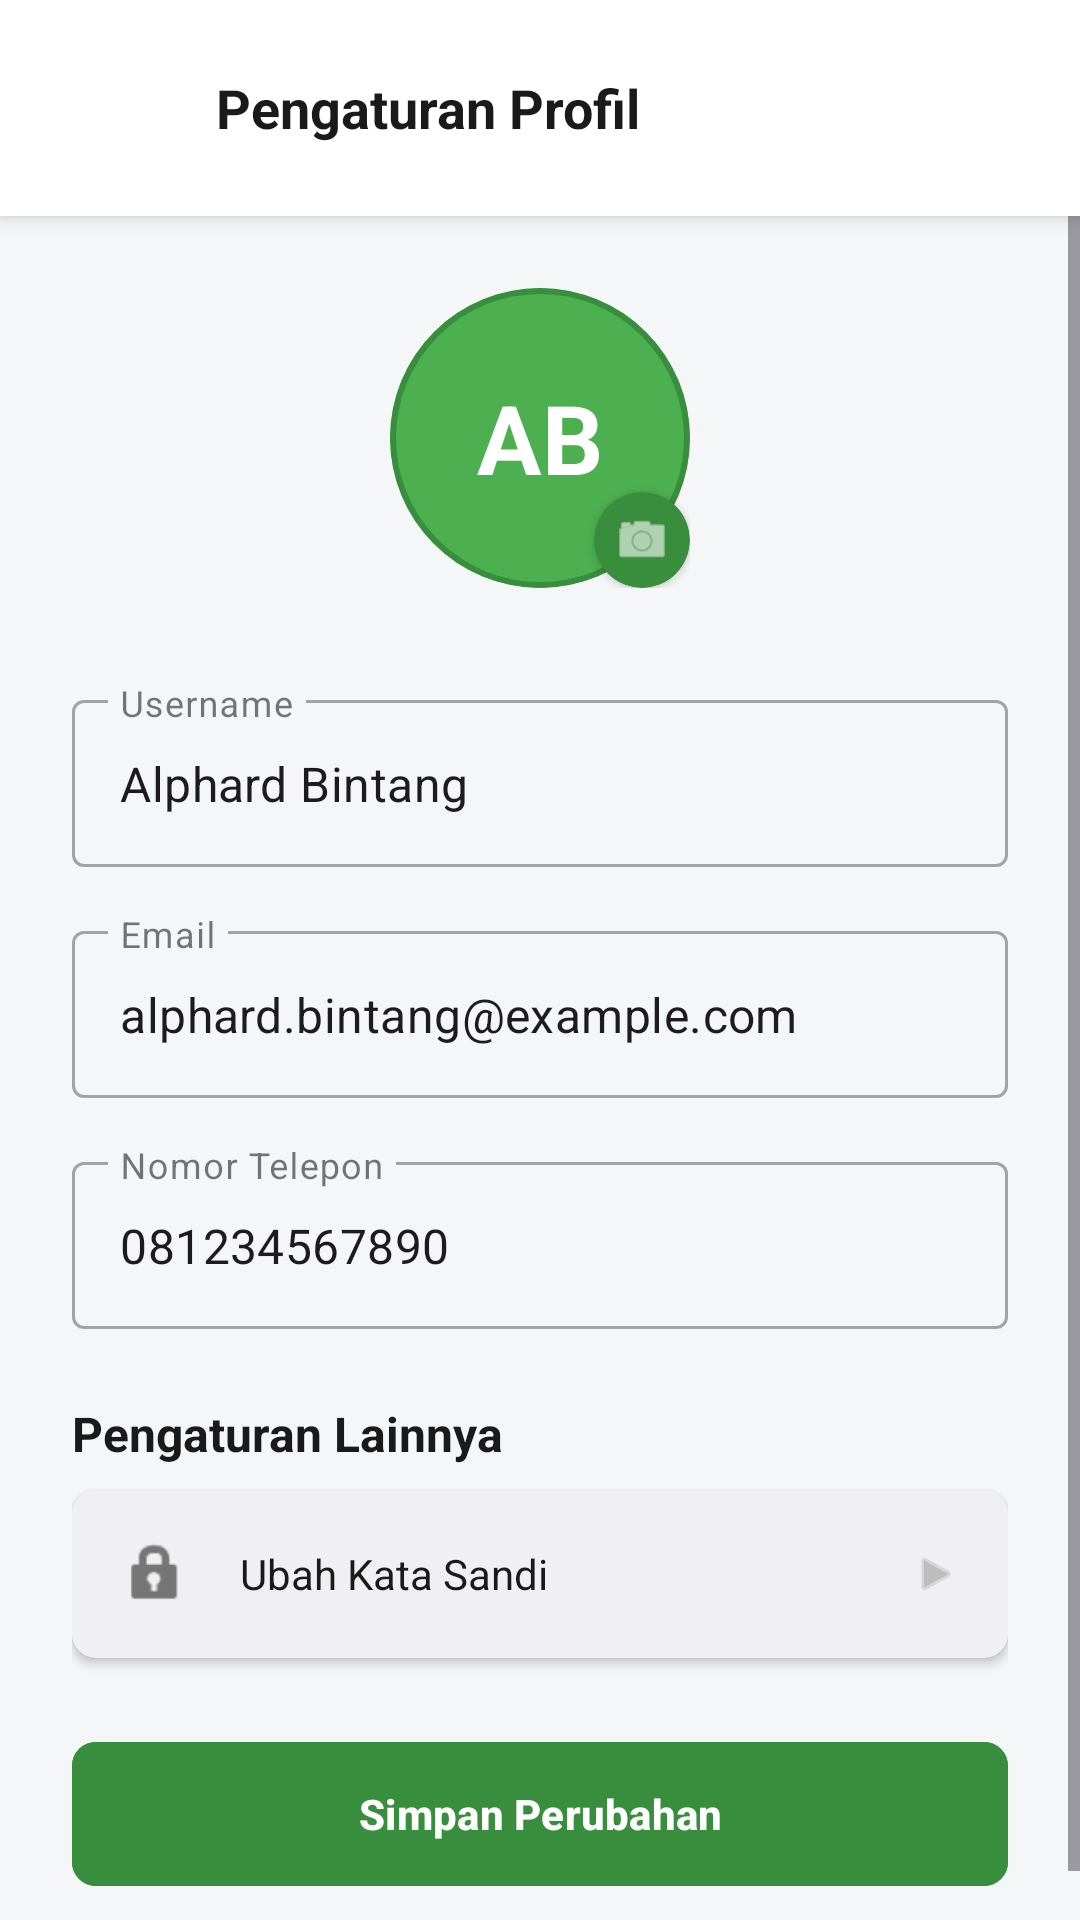

Where to tap for icons on this 1080px x 1920px app screen, as [x,y]:
camera: [642,540]
lock idle: [154,1571]
play: [936,1574]
